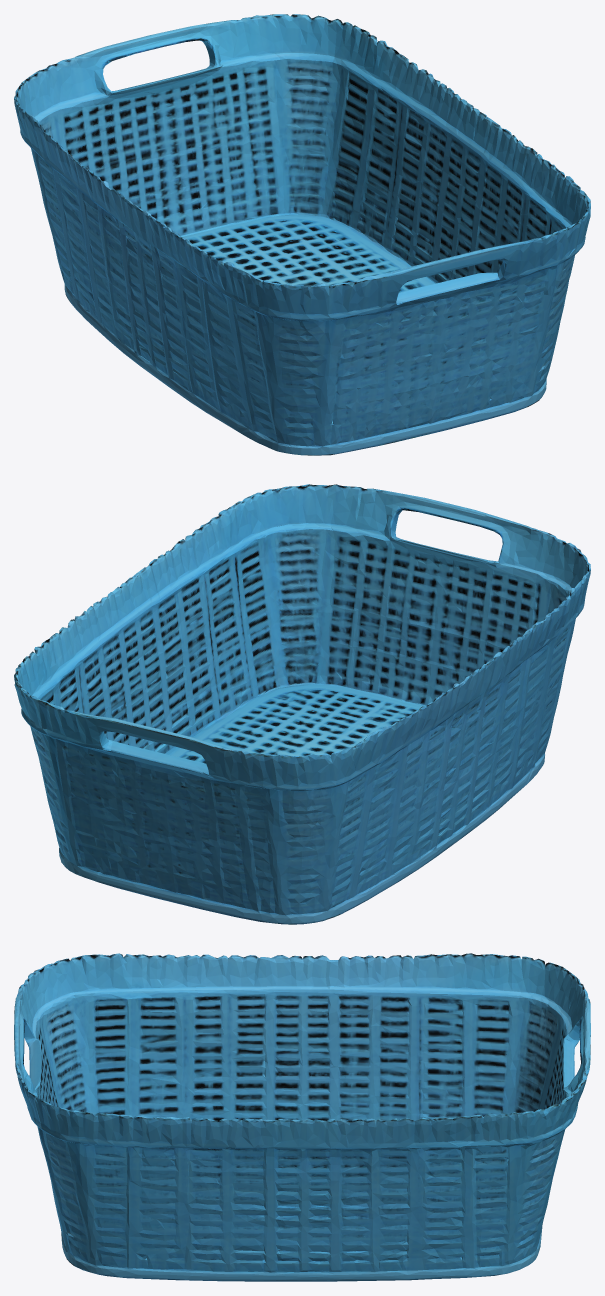
The model's file is basket_blue.glb.
The picture shows the model from 3 angles, top to bottom: view 1: azimuth 30°, elevation 25°; view 2: azimuth 150°, elevation 25°; view 3: azimuth 270°, elevation 25°; orthographic projection. The views are drawn at different scales.
Parts seen in each view (by area): view 1: world; view 2: world; view 3: world.
Part boxes in pixels (left/top/right/bottom): world: left=14, top=14, right=590, bottom=455; world: left=14, top=484, right=590, bottom=924; world: left=14, top=953, right=590, bottom=1281.
Bounding box in the file's own units: 0.6756 × 0.3516 × 0.9994.
Materials: 1 (1 with a texture image).
